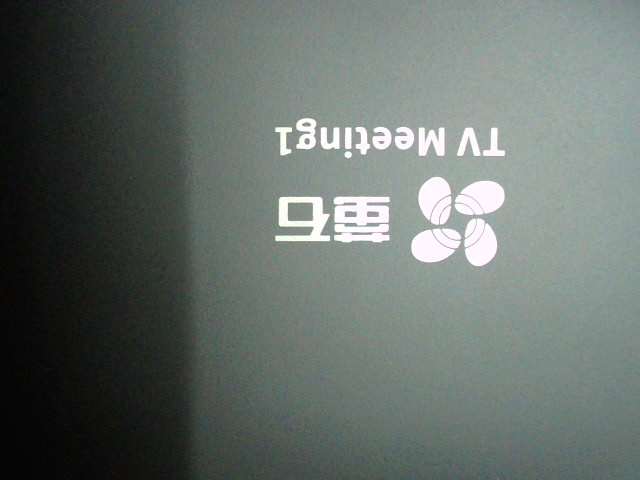BA_Yingshi: (269, 115, 510, 267)
